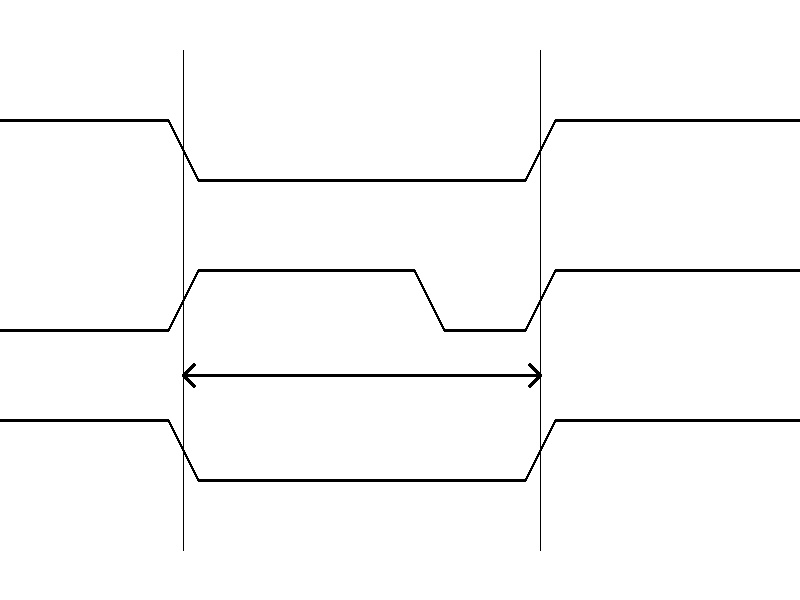double_arrow: (183, 360, 540, 390)
